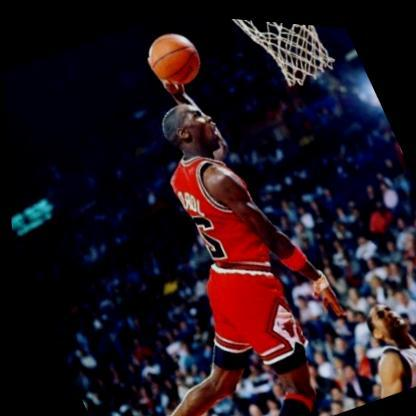basketball: (139, 19, 209, 93)
rim: (215, 14, 345, 97)
